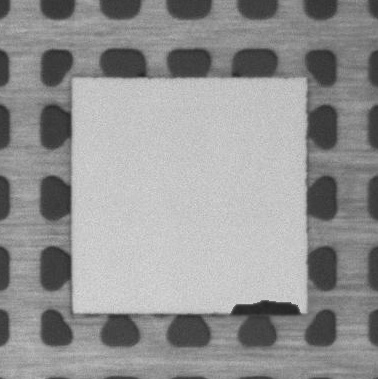DIE_BROKEN: (230, 295, 300, 322)
